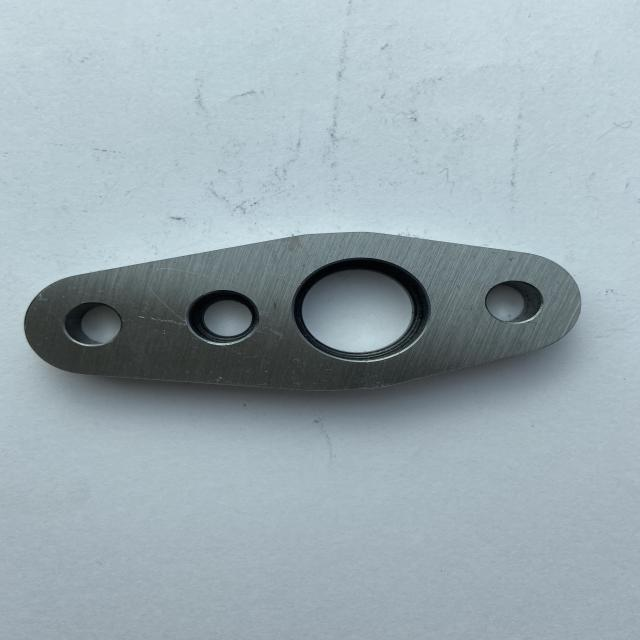chap: (446, 283, 461, 289), (160, 328, 168, 336), (215, 375, 225, 380)
lines: (134, 313, 186, 325)
